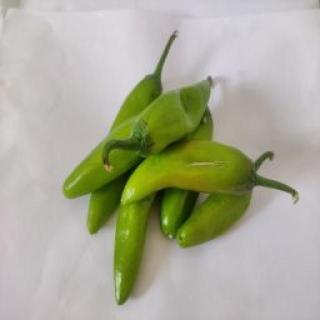Cabai Hijau: (119, 139, 307, 213), (103, 77, 219, 173)
